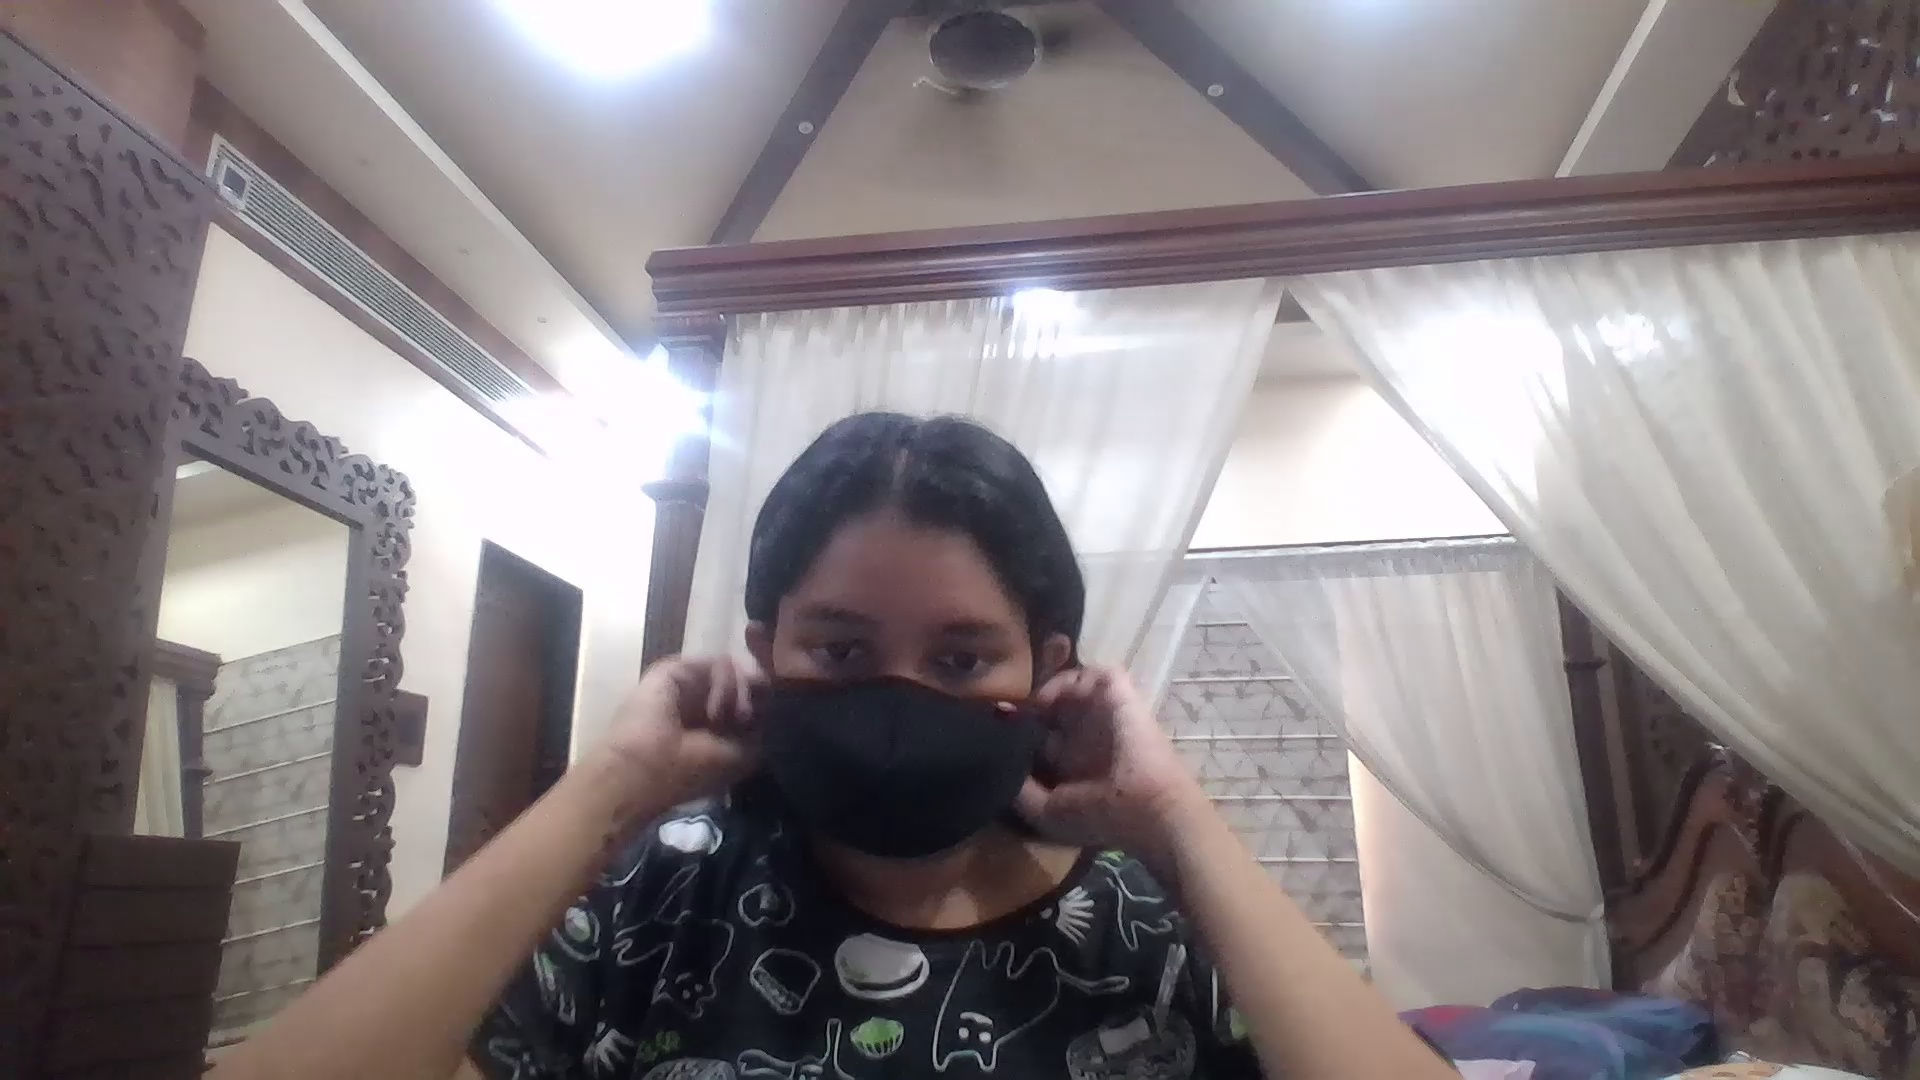Mask: (764, 683, 1029, 869)
